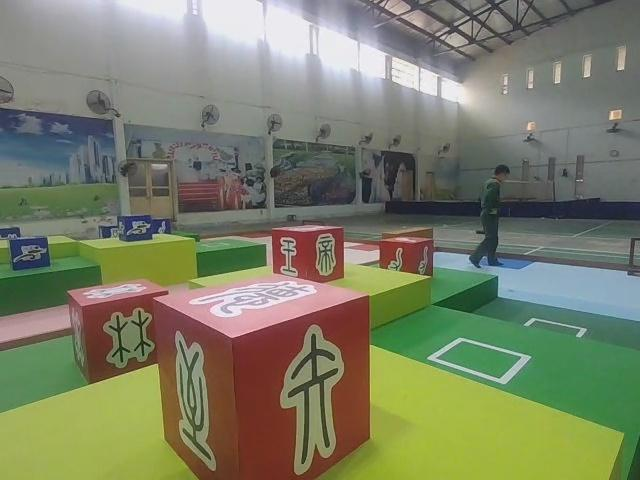R2 Fake: (153, 276, 371, 480), (273, 224, 345, 285)
R2 Real: (66, 278, 162, 384), (378, 233, 436, 278)
